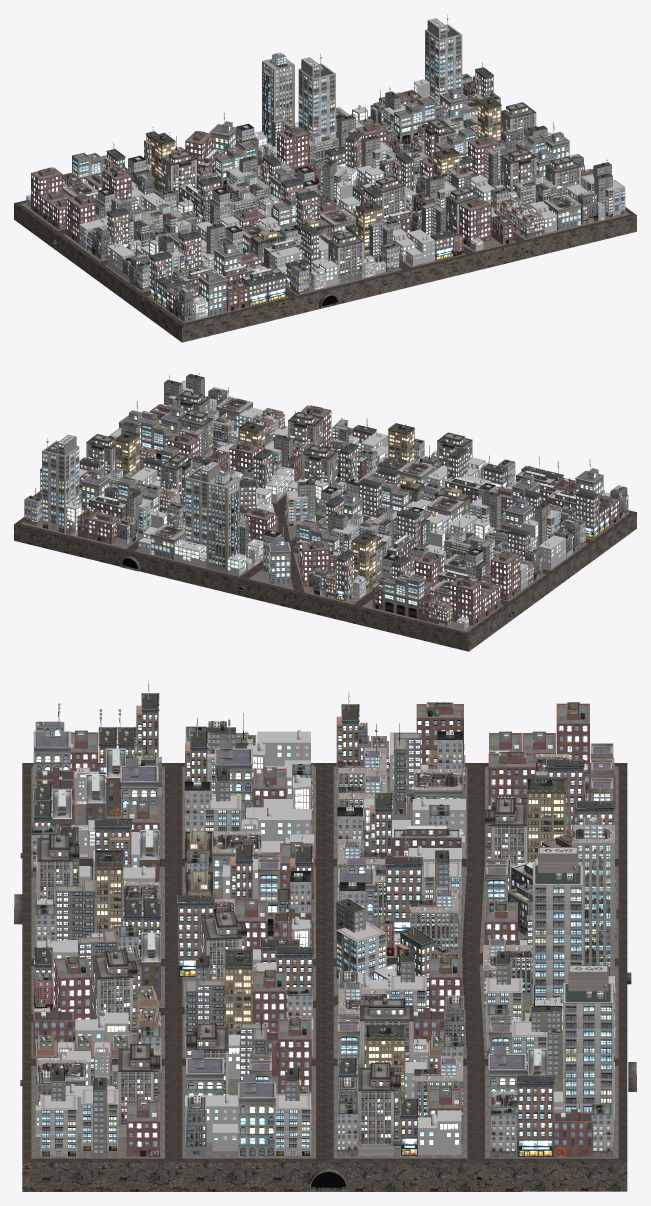
3 renders of one model, top to bottom at view 1: azimuth 30°, elevation 25°; view 2: azimuth 150°, elevation 25°; view 3: azimuth 270°, elevation 25°, orthographic. The views are drawn at different scales.
Parts seen in each view (by area): view 1: ground_2, NY_set3_029_142, NY_set3_064_158, NY_set3_086_164, NY_set1_071_34, NY_set2_070_105, NY_set1_031_12, NY_set3_026_139, NY_set2_044_90, NY_set1_090_46, NY_set3_010_127, NY_set3_125_196 (+70 smaller); view 2: ground_2, NY_set3_064_158, NY_set3_086_164, NY_set3_029_142, NY_set3_111_183, NY_set2_037_86, NY_set1_076_39, NY_set2_091_122, NY_set1_032_13, NY_set3_122_193, NY_set1_075_38, NY_set3_120_191 (+62 smaller); view 3: ground_2, NY_set3_064_158, NY_set3_029_142, NY_set3_086_164, NY_set1_020_10, NY_set3_122_193, NY_set3_116_188, NY_set1_075_38, NY_set3_089_166, NY_set3_010_127, NY_set3_016_131, NY_set1_032_13 (+103 smaller).
Boxes of the visible parts, <box> form: ground_2: <box>14,116,636,342</box>; NY_set3_029_142: <box>298,53,335,137</box>; NY_set3_064_158: <box>425,14,462,100</box>; NY_set3_086_164: <box>262,52,294,144</box>; NY_set1_071_34: <box>328,231,363,283</box>; NY_set2_070_105: <box>459,198,491,247</box>; NY_set1_031_12: <box>161,150,196,199</box>; NY_set3_026_139: <box>394,96,435,144</box>; NY_set2_044_90: <box>277,127,308,173</box>; NY_set1_090_46: <box>501,148,536,192</box>; NY_set3_010_127: <box>594,170,625,217</box>; NY_set3_125_196: <box>198,258,227,316</box>; ground_2: <box>14,426,636,651</box>; NY_set3_064_158: <box>42,434,79,532</box>; NY_set3_086_164: <box>206,470,239,572</box>; NY_set3_029_142: <box>185,461,219,545</box>; NY_set3_111_183: <box>383,574,424,618</box>; NY_set2_037_86: <box>450,577,481,625</box>; NY_set1_076_39: <box>302,445,337,488</box>; NY_set2_091_122: <box>491,550,520,599</box>; NY_set1_032_13: <box>352,527,376,592</box>; NY_set3_122_193: <box>286,478,315,525</box>; NY_set1_075_38: <box>288,412,323,446</box>; NY_set3_120_191: <box>268,526,290,583</box>; ground_2: <box>22,763,627,1191</box>; NY_set3_064_158: <box>563,965,613,1140</box>; NY_set3_029_142: <box>532,847,583,1005</box>; NY_set3_086_164: <box>572,817,614,975</box>; NY_set1_020_10: <box>358,1063,400,1155</box>; NY_set3_122_193: <box>336,890,386,979</box>; NY_set3_116_188: <box>516,1059,554,1156</box>; NY_set1_075_38: <box>92,950,137,1042</box>; NY_set3_089_166: <box>238,1053,276,1155</box>; NY_set3_010_127: <box>40,1058,77,1156</box>; NY_set3_016_131: <box>274,1058,311,1155</box>; NY_set1_032_13: <box>526,774,566,864</box>.
Bounding box in the file's own units: 469 × 108 × 306.
